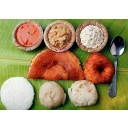dosa: (29, 49, 87, 83)
